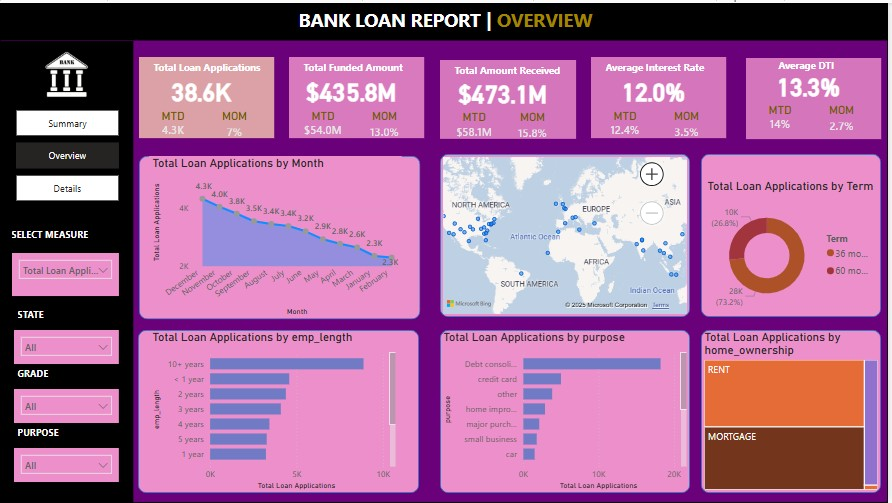

What the dashboard file says about the page in this screenshot:
{"tool":"powerbi","page":{"name":"Overview","canvas":[1280,720],"ordinal":1},"visuals":[{"type":"shape","box":[0,54.2,192,665.4],"z":0},{"type":"shape","box":[0,0,1280,54.2],"z":1000},{"type":"textbox","box":[425,0,457.1,54.2],"z":2000},{"type":"group","id":"g1","title":"Group 1","box":[199.8,77.9,194.7,120.2],"z":3000},{"type":"shape","box":[199.8,77.9,194.7,116.8],"z":3000,"group":"g1"},{"type":"shape","box":[416.5,77.9,194.7,116.8],"z":3000,"group":"g2"},{"type":"shape","box":[851.6,77.9,194.7,116.8],"z":3000,"group":"g4"},{"type":"shape","box":[633.6,82.1,196.4,113.5],"z":3000,"group":"g3"},{"type":"shape","box":[1074.2,78.7,194.7,116.8],"z":4000,"group":"g5"},{"type":"card","fields":{"Values":["financial_loan.Total Loan Applications"]},"box":[215,99.9,147.3,52.5],"z":4000,"group":"g1"},{"type":"card","fields":{"Values":["financial_loan.Total Funded Amount"]},"box":[431.7,99.9,147.3,52.5],"z":4000,"group":"g2"},{"type":"card","fields":{"Values":["financial_loan.Avg Intererst Rate"]},"box":[866.8,99.9,147.3,52.5],"z":4000,"group":"g4"},{"type":"card","fields":{"Values":["financial_loan.Total Amount Received"]},"box":[649,103.5,148.6,51],"z":4000,"group":"g3"},{"type":"shape","box":[1009.4,217.4,259.2,234.7],"z":4000},{"type":"textbox","box":[215,77.9,179.5,42.3],"z":5000,"group":"g1"},{"type":"group","id":"g2","title":"Group 1","box":[416.5,77.9,194.7,120.2],"z":5000},{"type":"textbox","box":[431.7,77.9,179.5,42.3],"z":5000,"group":"g2"},{"type":"textbox","box":[866.8,77.9,179.5,42.3],"z":5000,"group":"g4"},{"type":"textbox","box":[649,82.1,181,41.1],"z":5000,"group":"g3"},{"type":"group","id":"g3","title":"Group 1","box":[633.6,82.1,196.4,116.8],"z":6000},{"type":"card","fields":{"Values":["financial_loan.AVG DTI"]},"box":[1089.4,92.2,147.3,52.5],"z":6000,"group":"g5"},{"type":"card","title":"MTD","fields":{"Values":["financial_loan.MTD Loan Applications"]},"box":[215,152.4,66,45.7],"z":6000,"group":"g1"},{"type":"card","title":"MTD","fields":{"Values":["financial_loan.MTD Funded Amount"]},"box":[431.7,152.4,66,45.7],"z":6000,"group":"g2"},{"type":"card","title":"MTD","fields":{"Values":["financial_loan.MTD Avg Int Rate"]},"box":[866.8,152.4,66,45.7],"z":6000,"group":"g4"},{"type":"card","title":"MTD","fields":{"Values":["financial_loan.MTD Total Amount Received"]},"box":[649,154.5,66.6,44.4],"z":6000,"group":"g3"},{"type":"card","title":"MOM","fields":{"Values":["financial_loan.MOM Loan Application"]},"box":[289.5,152.4,96.5,42.3],"z":7000,"group":"g1"},{"type":"card","title":"MOM","fields":{"Values":["financial_loan.MOM Total Funded Amount"]},"box":[506.2,152.4,96.5,42.3],"z":7000,"group":"g2"},{"type":"card","title":"MOM","fields":{"Values":["financial_loan.MOM Avg Interest Rate"]},"box":[941.3,152.4,96.5,42.3],"z":7000,"group":"g4"},{"type":"card","title":"MOM","fields":{"Values":["financial_loan.MOM Total Amount Received"]},"box":[719.1,154,96.5,41.8],"z":7000,"group":"g3"},{"type":"donutChart","fields":{"Y":["financial_loan.Total Loan Applications"],"Category":["financial_loan.term"]},"box":[1013.8,253.4,254.9,201.6],"z":7000},{"type":"textbox","box":[1088.8,74.9,179.5,44],"z":8000,"group":"g5"},{"type":"group","id":"g4","title":"Group 1","box":[851.6,77.9,194.7,120.2],"z":8000},{"type":"group","id":"g5","title":"Group 2","box":[1074.2,74.9,194.4,119.5],"z":9000},{"type":"card","title":"MTD","fields":{"Values":["financial_loan.MTD Avg DTI"]},"box":[1089.4,144.7,66,45.7],"z":10000,"group":"g5"},{"type":"shape","box":[200.2,220.3,405,235],"z":10000},{"type":"card","title":"MOM","fields":{"Values":["financial_loan.MOM Avg DTI"]},"box":[1163.9,144.7,96.5,42.3],"z":11000,"group":"g5"},{"type":"slicer","fields":{"Values":["financial_loan.address_state"]},"box":[20.2,470.9,151.2,49],"z":11000},{"type":"textbox","box":[20.2,434.9,69.1,34.6],"z":12000},{"type":"slicer","fields":{"Values":["financial_loan.grade"]},"box":[20.2,555.8,151.2,49],"z":13000},{"type":"slicer","fields":{"Values":["financial_loan.purpose"]},"box":[20.2,640.8,151.2,49],"z":14000},{"type":"textbox","box":[20.2,604.8,90.7,36],"z":15000},{"type":"textbox","box":[20.2,519.8,69.1,46.1],"z":16000},{"type":"areaChart","fields":{"Y":["financial_loan.Total Loan Applications"],"Category":["Date Table.Month"]},"box":[214.6,220.3,364.3,234.7],"z":17000},{"type":"slicer","fields":{"Values":["Select Measure.Select Measure"]},"box":[17.3,360,154.1,61.9],"z":18000},{"type":"shape","box":[633.6,217.4,360,234.7],"z":19000},{"type":"map","fields":{"Category":["financial_loan.address_state"]},"box":[633.6,217.4,360,234.7],"z":20000},{"type":"shape","box":[198.7,470.9,404.6,234.7],"z":21000},{"type":"barChart","fields":{"Y":["financial_loan.Total Loan Applications"],"Category":["financial_loan.emp_length"]},"box":[214.6,470.9,360,234.7],"z":22000},{"type":"shape","box":[633.6,470.9,360,234.7],"z":23000},{"type":"barChart","fields":{"Y":["financial_loan.Total Loan Applications"],"Category":["financial_loan.purpose"]},"box":[633.6,470.9,360,234.7],"z":24000},{"type":"shape","box":[1009.4,470.9,259.2,234.7],"z":25000},{"type":"treemap","fields":{"Values":["financial_loan.Total Loan Applications"],"Group":["financial_loan.home_ownership"]},"box":[1009.4,470.9,259.2,234.7],"z":26000},{"type":"textbox","box":[11.5,319.7,180,34.6],"z":27000},{"type":"pageNavigator","box":[23,154.1,148.3,132.5],"z":28000},{"type":"image","box":[0,54.7,191.5,96.5],"z":29000}]}

Visuals, with their boxes in screenshot pixels (x1, y1, x2, y2), scaled from the page's 1280x720 canvas onto the 892x503 screenshot:
shape: rect(0, 38, 134, 502)
shape: rect(0, 0, 891, 38)
textbox: rect(296, 0, 615, 38)
"Group 1" group: rect(139, 54, 275, 138)
shape: rect(139, 54, 275, 136)
shape: rect(290, 54, 426, 136)
shape: rect(593, 54, 729, 136)
shape: rect(442, 57, 578, 137)
shape: rect(749, 55, 884, 137)
card - financial_loan.Total Loan Applications: rect(150, 70, 252, 106)
card - financial_loan.Total Funded Amount: rect(301, 70, 403, 106)
card - financial_loan.Avg Intererst Rate: rect(604, 70, 707, 106)
card - financial_loan.Total Amount Received: rect(452, 72, 556, 108)
shape: rect(703, 152, 884, 316)
textbox: rect(150, 54, 275, 84)
"Group 1" group: rect(290, 54, 426, 138)
textbox: rect(301, 54, 426, 84)
textbox: rect(604, 54, 729, 84)
textbox: rect(452, 57, 578, 86)
"Group 1" group: rect(442, 57, 578, 139)
card - financial_loan.AVG DTI: rect(759, 64, 862, 101)
"MTD" card: rect(150, 106, 196, 138)
"MTD" card: rect(301, 106, 347, 138)
"MTD" card: rect(604, 106, 650, 138)
"MTD" card: rect(452, 108, 499, 139)
"MOM" card: rect(202, 106, 269, 136)
"MOM" card: rect(353, 106, 420, 136)
"MOM" card: rect(656, 106, 723, 136)
"MOM" card: rect(501, 108, 568, 137)
donutChart - financial_loan.Total Loan Applications x financial_loan.term: rect(706, 177, 884, 318)
textbox: rect(759, 52, 884, 83)
"Group 1" group: rect(593, 54, 729, 138)
"Group 2" group: rect(749, 52, 884, 136)
"MTD" card: rect(759, 101, 805, 133)
shape: rect(140, 154, 422, 318)
"MOM" card: rect(811, 101, 878, 131)
slicer - financial_loan.address_state: rect(14, 329, 119, 363)
textbox: rect(14, 304, 62, 328)
slicer - financial_loan.grade: rect(14, 388, 119, 423)
slicer - financial_loan.purpose: rect(14, 448, 119, 482)
textbox: rect(14, 423, 77, 448)
textbox: rect(14, 363, 62, 395)
areaChart - financial_loan.Total Loan Applications x Date Table.Month: rect(150, 154, 403, 318)
slicer - Select Measure.Select Measure: rect(12, 252, 119, 295)
shape: rect(442, 152, 692, 316)
map - financial_loan.address_state: rect(442, 152, 692, 316)
shape: rect(138, 329, 420, 493)
barChart - financial_loan.Total Loan Applications x financial_loan.emp_length: rect(150, 329, 400, 493)
shape: rect(442, 329, 692, 493)
barChart - financial_loan.Total Loan Applications x financial_loan.purpose: rect(442, 329, 692, 493)
shape: rect(703, 329, 884, 493)
treemap - financial_loan.Total Loan Applications x financial_loan.home_ownership: rect(703, 329, 884, 493)
textbox: rect(8, 223, 133, 248)
pageNavigator: rect(16, 108, 119, 200)
image: rect(0, 38, 133, 106)
